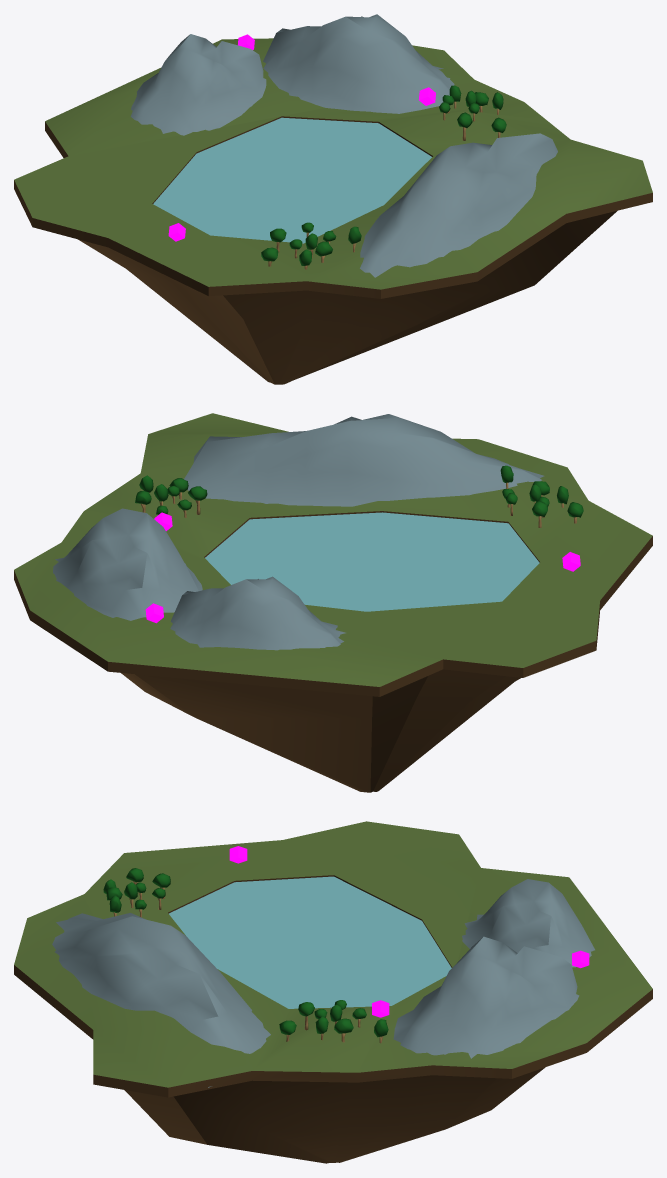
3 renders of one model, top to bottom at view 1: azimuth 30°, elevation 25°; view 2: azimuth 150°, elevation 25°; view 3: azimuth 270°, elevation 25°, orthographic. The views are drawn at different scales.
Parts seen in each view (by area): view 1: ground, Plane, Landscape.1, Landscape.2, Landscape.3; view 2: ground, Plane, Landscape.1, Landscape.2, Landscape.3; view 3: ground, Plane, Landscape.1, Landscape.2, Landscape.3.
Part boxes in pixels (x1,y1,x2,y2): ground: (14, 38, 652, 384); Plane: (153, 117, 431, 243); Landscape.1: (360, 133, 557, 277); Landscape.2: (263, 14, 454, 113); Landscape.3: (130, 34, 266, 135); ground: (14, 413, 652, 792); Plane: (205, 512, 539, 611); Landscape.1: (184, 414, 544, 506); Landscape.2: (53, 508, 202, 620); Landscape.3: (170, 576, 345, 650); ground: (14, 821, 652, 1163); Plane: (169, 876, 451, 1008); Landscape.1: (52, 913, 270, 1087); Landscape.2: (393, 936, 579, 1058); Landscape.3: (462, 879, 594, 967).
Bounding box in the file's own units: 405 × 208 × 411.
Materials: 7 (1 with a texture image).
